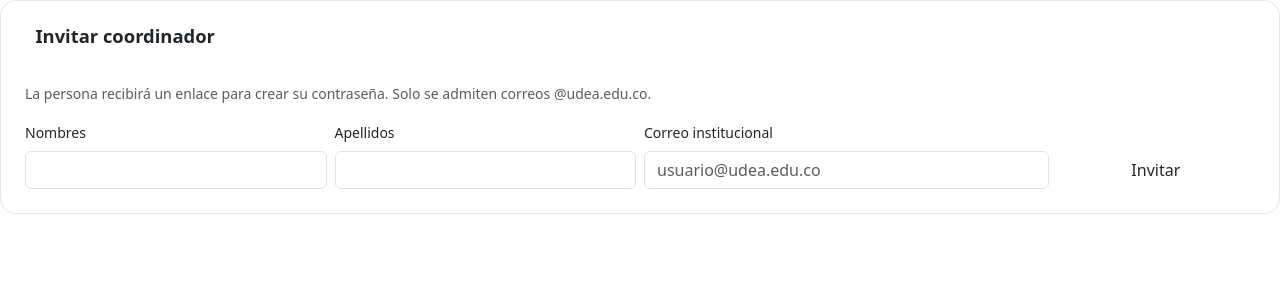
Scenario: InvitarCoordinadorForm › advierte si el correo no salió y conserva los datos para reintentar
Type "Pedro" into the field labelled "Nombres". click: (176, 170)
box: [25,151,326,189]
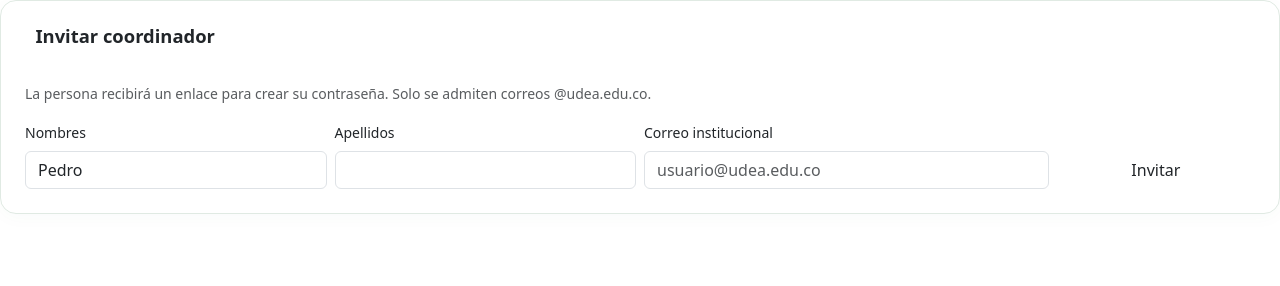
Type "Ruiz" into the field labelled "Apellidos". click: (485, 170)
box: [334,151,636,189]
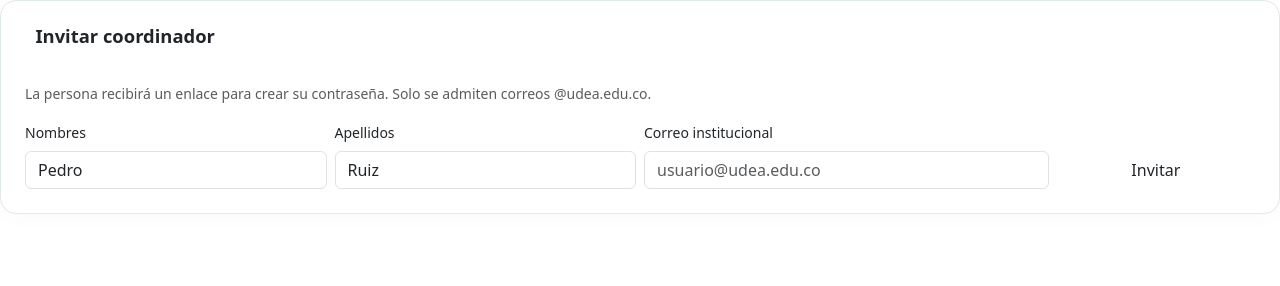
Type "pedro.ruiz@udea.edu.co" into the field labelled "Correo institucional". click: (846, 170)
box: [644,151,1049,189]
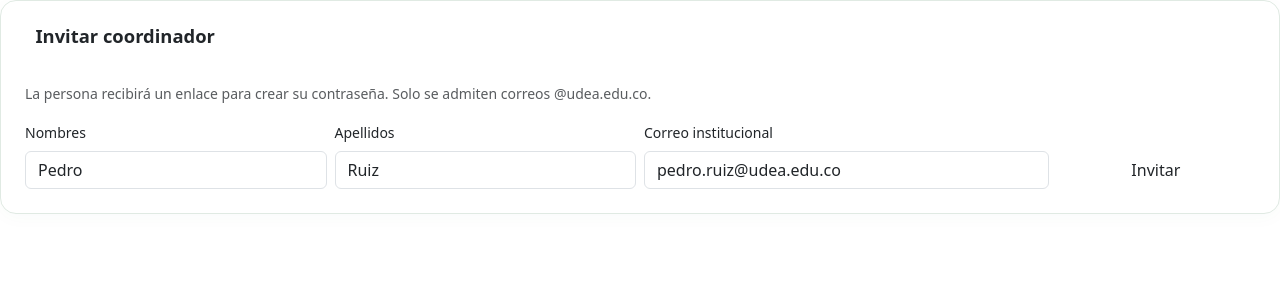
Click the button "Invitar". click: (1156, 170)
box: [1057,151,1255,189]
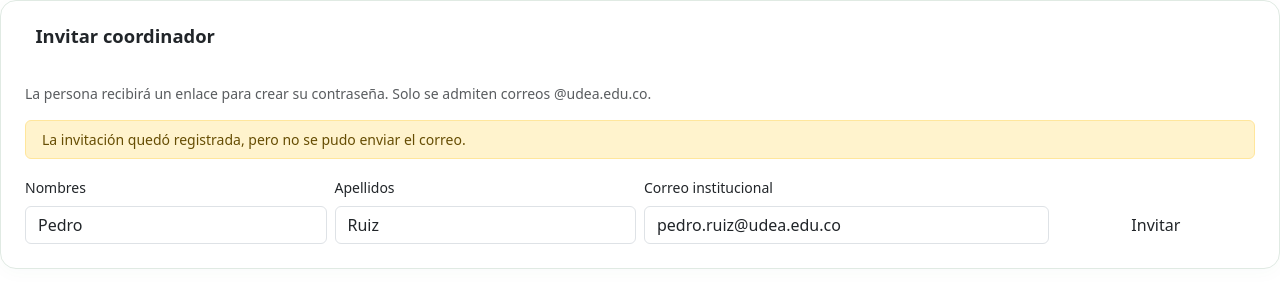
Result: the message shows "no se pudo enviar el correo" at [42,130,466,149]
